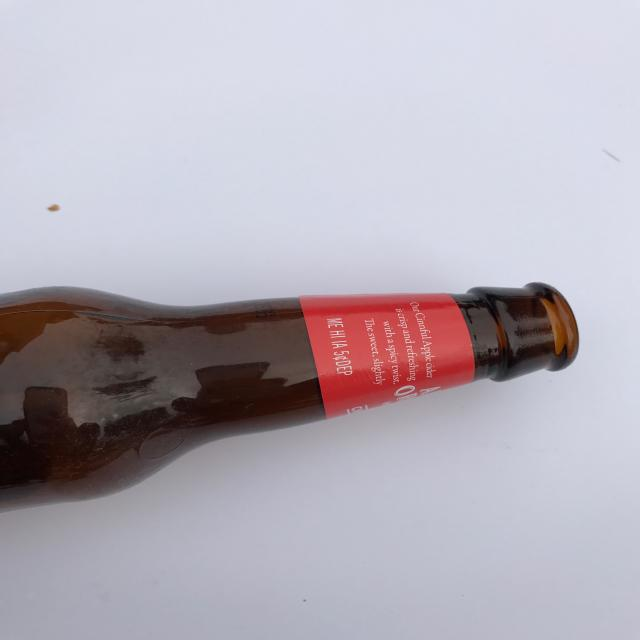glass: (0, 281, 580, 514)
